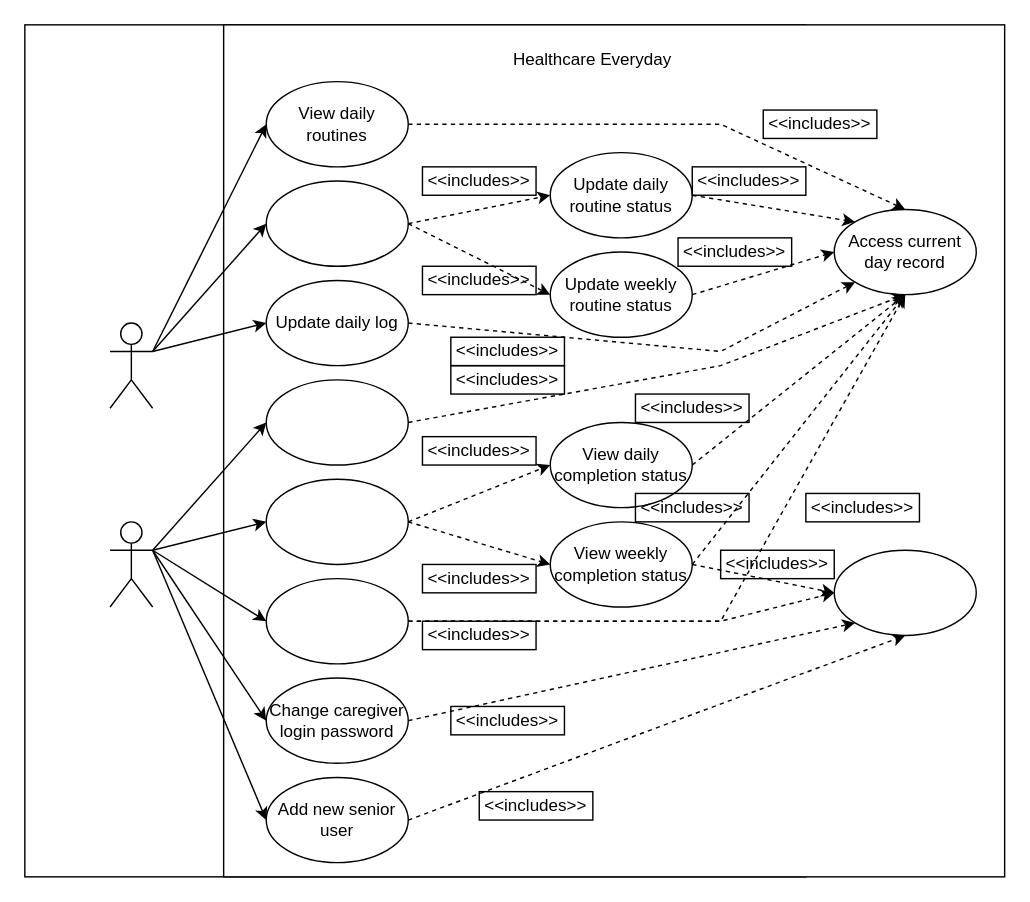
Some shapes in this 1030 by 902 pixel diagram are drawn without their labels. The shapes that lost their labels are listed below. From the top down, each one's centre as x and y in pixels, then its label:
(336,223): Update routine completion status
(131,365): Senior
(336,421): Update senior user's routine
(336,521): View task completion history of senior
(131,563): Caregiver
(904,592): Access past records
(336,620): Generate monthly summary report
